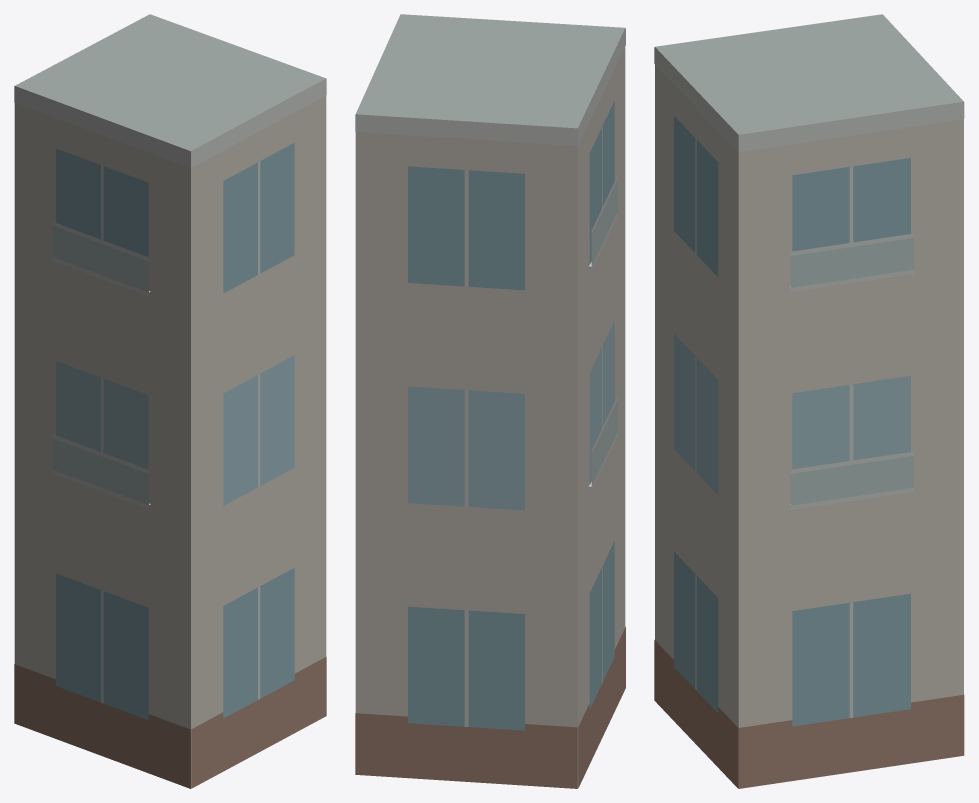
Rendered from survey-upis-32841821.glb.
3 views of the same model, side by side, from view 1: azimuth 30°, elevation 25°; view 2: azimuth 150°, elevation 25°; view 3: azimuth 270°, elevation 25° (orthographic). The views are drawn at different scales.
Parts seen in each view (by area): view 1: survey-upis-32841821.tmp; view 2: survey-upis-32841821.tmp; view 3: survey-upis-32841821.tmp.
Boxes of the visible parts, x1,y1,x2,y2 form: survey-upis-32841821.tmp: (14, 14, 326, 788); survey-upis-32841821.tmp: (355, 14, 625, 788); survey-upis-32841821.tmp: (654, 14, 964, 788).
Size of the model in its own units: 3.64 by 9.15 by 3.93.
